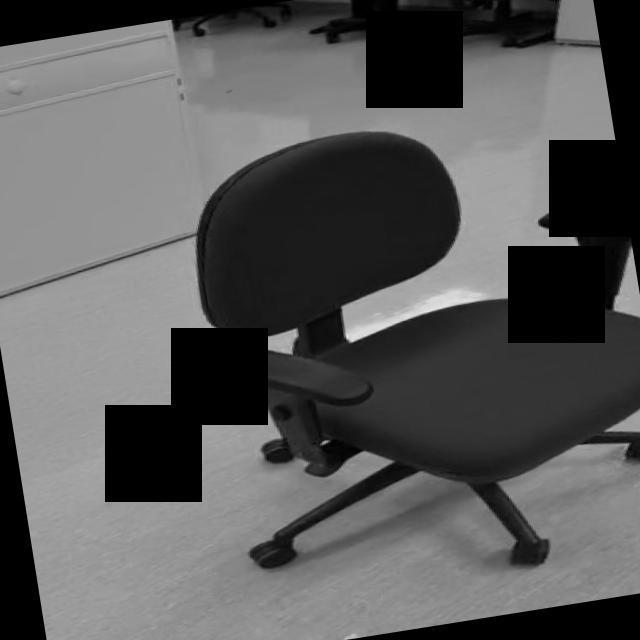chair: (174, 91, 640, 611)
